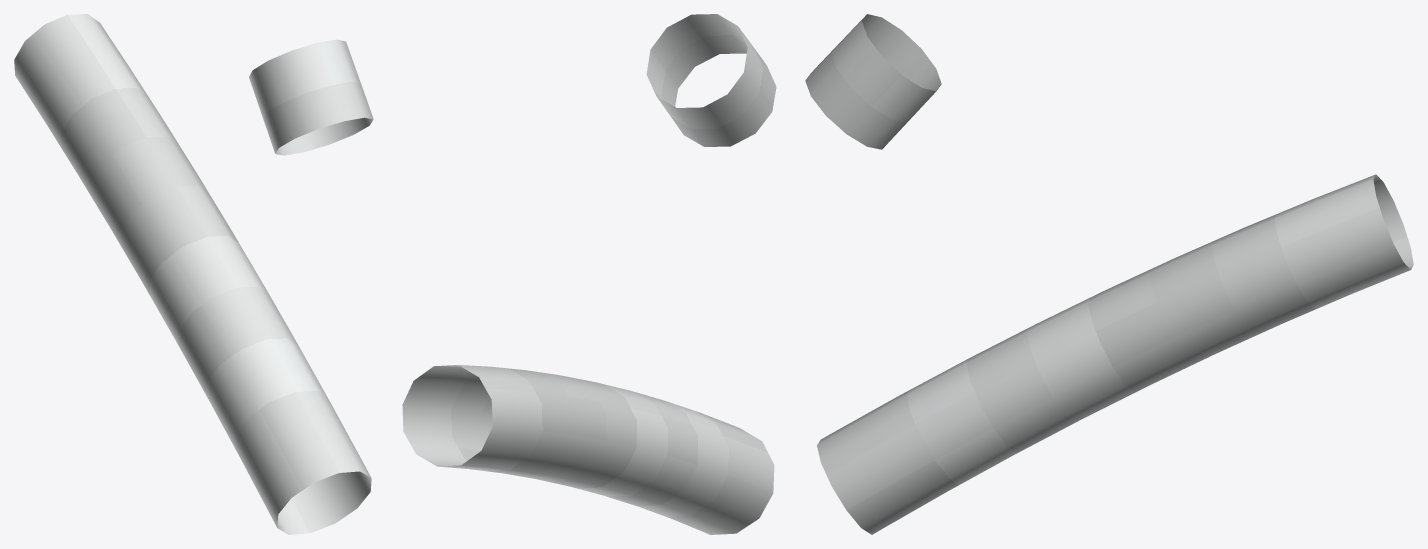
File: luminairearm_vannuystriple_c3.obj
3 views of the same model, side by side, from view 1: azimuth 30°, elevation 25°; view 2: azimuth 150°, elevation 25°; view 3: azimuth 270°, elevation 25° (orthographic). The views are drawn at different scales.
Parts seen in each view (by area): view 1: luminairearm_vannuystriple_c3; view 2: luminairearm_vannuystriple_c3; view 3: luminairearm_vannuystriple_c3.
Part boxes in pixels (x1,y1,x2,y2): luminairearm_vannuystriple_c3: (14, 14, 373, 534); luminairearm_vannuystriple_c3: (402, 14, 776, 534); luminairearm_vannuystriple_c3: (805, 14, 1413, 534).
Size of the model in its own units: 0.2 by 1.02 by 1.11.
